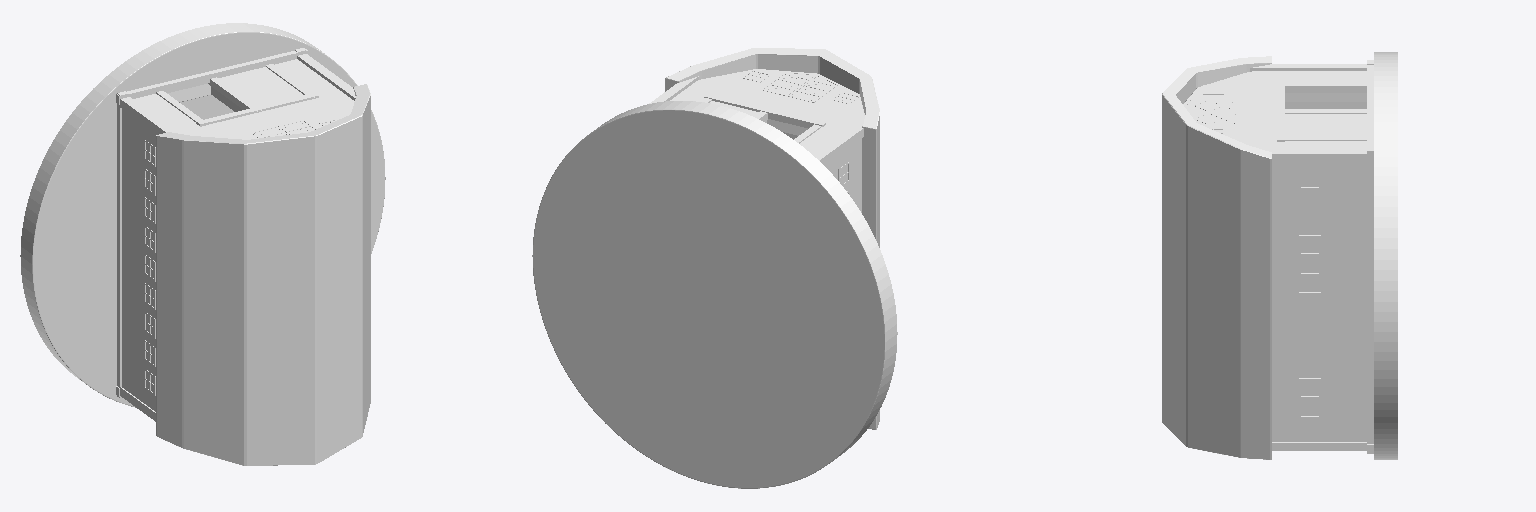
Rendered from 20955_Barn_v2_NEW.obj.
3 views of the same model, side by side, from view 1: azimuth 30°, elevation 25°; view 2: azimuth 150°, elevation 25°; view 3: azimuth 270°, elevation 25° (orthographic).
Parts seen in each view (by area): view 1: 20955_Barn_v2; view 2: 20955_Barn_v2; view 3: 20955_Barn_v2.
Part boxes in pixels (bbox=[...]): 20955_Barn_v2: bbox=[20, 23, 385, 465]; 20955_Barn_v2: bbox=[532, 48, 897, 488]; 20955_Barn_v2: bbox=[1162, 52, 1397, 459].
Bounding box in the file's own units: 9.98 × 9.98 × 5.78.